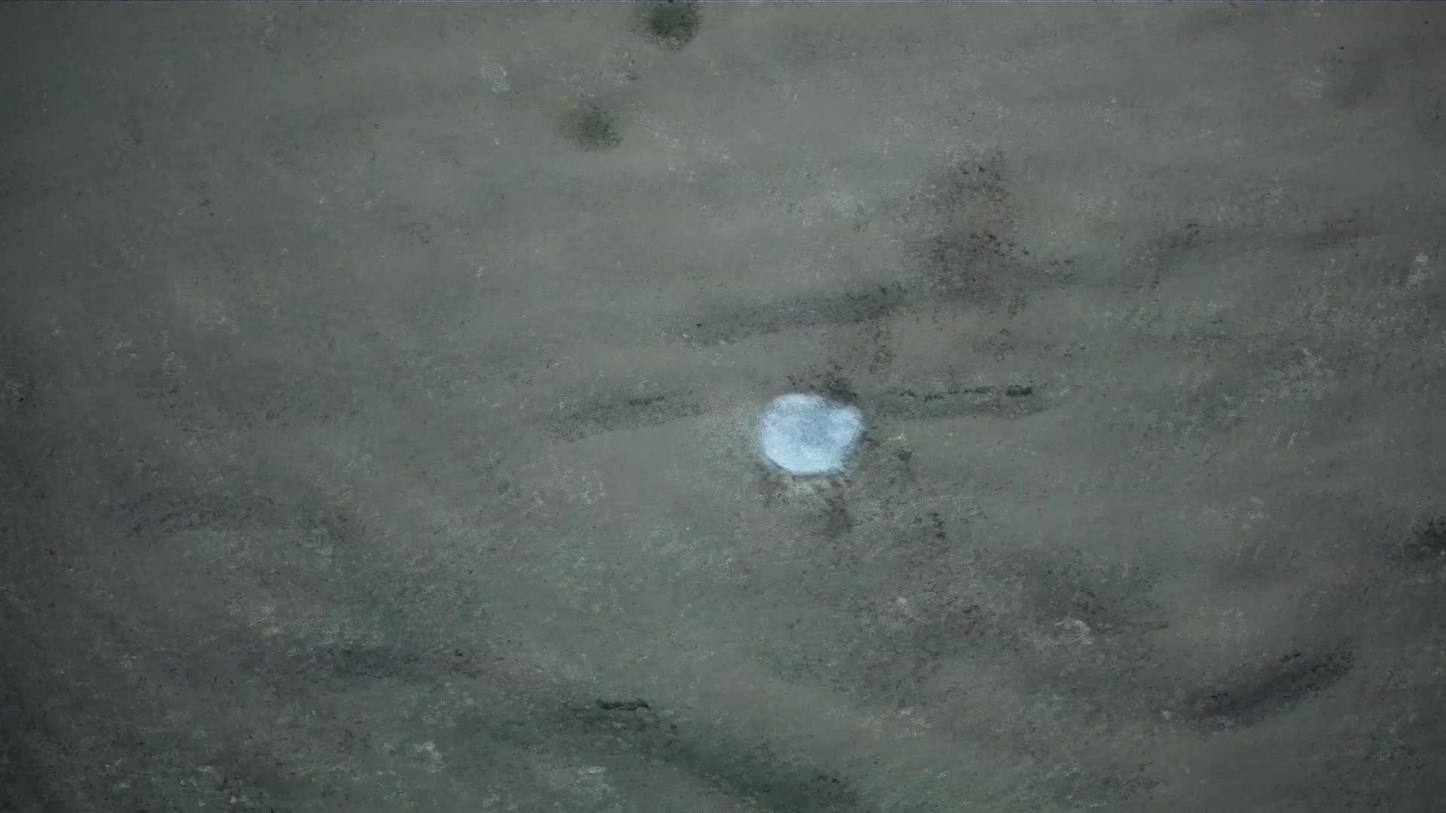Target: (749, 388, 872, 480)
